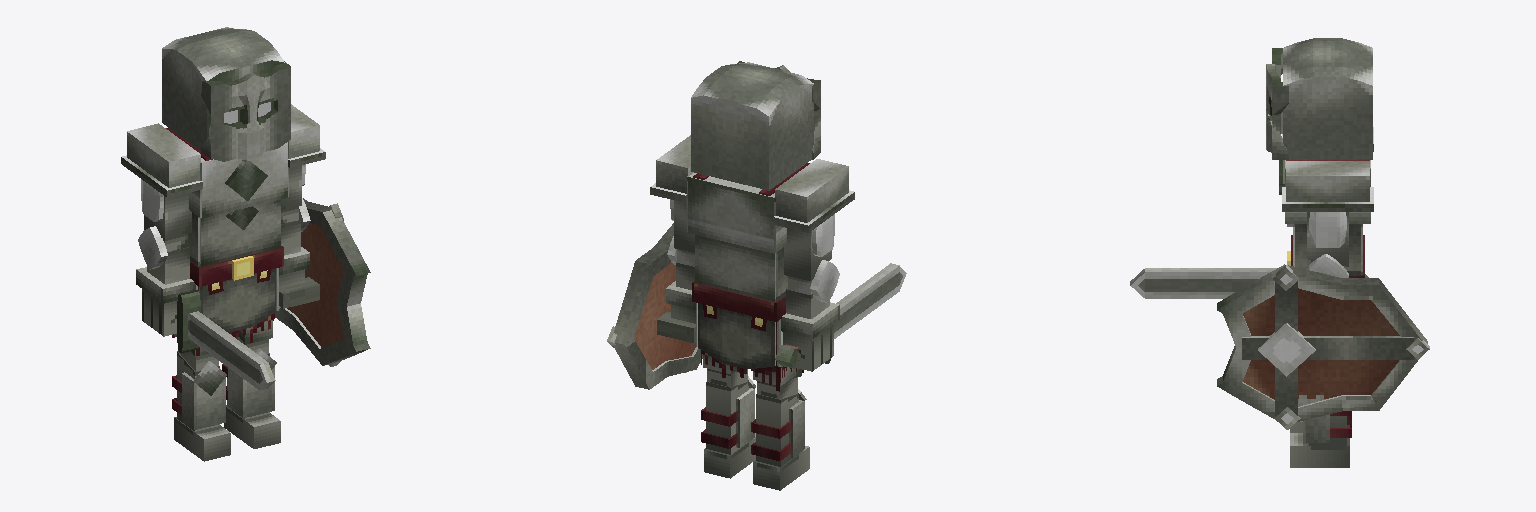
3 views of the same model, side by side, from view 1: azimuth 30°, elevation 25°; view 2: azimuth 150°, elevation 25°; view 3: azimuth 270°, elevation 25° (orthographic).
Parts seen in each view (by area): view 1: cuboid, Helmet_Base, Helmet_Front, Right_Shoulder_Equipment, Lower_Torso_Equipment, Upper_Torso_Equipment, Front_Leg_Plate_Equipment, Right_Shin_Guard_Equipment, Blade_Equipment, Belt_Equipment, Left_Shine_Plate_Equipment, Left_Shoulder_Equipment (+13 smaller); view 2: Helmet_Base, cuboid, Upper_Torso_Equipment, Lower_Torso_Equipment, Right_Shoulder_Equipment, Back_Leg_Plate_Equipment, Blade_Equipment, Belt_Equipment, Left_Shoulder_Equipment, Right_Lower_Leg, Left_Lower_Leg, Right_Upper_Arm_selection (+14 smaller); view 3: cuboid, Helmet_Base, Left_Shoulder_Equipment, Blade_Equipment, Helmet_Front, Left_Foot, Lower_Torso_Equipment, Left_Upper_Plate_Equipment, Left_Upper_Arm, Left_Shine_Plate_Equipment, Upper_Torso_Equipment, Left_Lower_Plate_Equipment.
Part boxes in pixels (left/top/right/bottom): cuboid: left=275, top=198, right=370, bottom=366; Helmet_Base: left=162, top=27, right=284, bottom=150; Helmet_Front: left=201, top=61, right=290, bottom=161; Right_Shoulder_Equipment: left=121, top=123, right=202, bottom=197; Lower_Torso_Equipment: left=188, top=199, right=280, bottom=266; Upper_Torso_Equipment: left=189, top=141, right=288, bottom=218; Front_Leg_Plate_Equipment: left=199, top=269, right=275, bottom=332; Right_Shin_Guard_Equipment: left=182, top=361, right=226, bottom=429; Blade_Equipment: left=190, top=311, right=268, bottom=390; Belt_Equipment: left=190, top=246, right=283, bottom=286; Left_Shine_Plate_Equipment: left=228, top=348, right=276, bottom=417; Left_Shoulder_Equipment: left=288, top=104, right=325, bottom=167; Helmet_Base: left=691, top=62, right=813, bottom=190; cuboid: left=607, top=223, right=702, bottom=389; Upper_Torso_Equipment: left=687, top=172, right=786, bottom=253; Lower_Torso_Equipment: left=695, top=235, right=787, bottom=301; Right_Shoulder_Equipment: left=773, top=159, right=854, bottom=232; Back_Leg_Plate_Equipment: left=698, top=303, right=775, bottom=368; Blade_Equipment: left=834, top=263, right=899, bottom=338; Belt_Equipment: left=692, top=281, right=785, bottom=321; Left_Shoulder_Equipment: left=650, top=135, right=692, bottom=202; Right_Lower_Leg: left=756, top=394, right=798, bottom=466; Left_Lower_Leg: left=706, top=382, right=748, bottom=454; Right_Upper_Arm_selection: left=784, top=228, right=831, bottom=280; cuboid: left=1217, top=264, right=1429, bottom=429; Helmet_Base: left=1281, top=38, right=1372, bottom=159; Left_Shoulder_Equipment: left=1282, top=161, right=1373, bottom=211; Blade_Equipment: left=1145, top=268, right=1276, bottom=298; Helmet_Front: left=1266, top=48, right=1288, bottom=159; Left_Foot: left=1290, top=433, right=1349, bottom=467; Lower_Torso_Equipment: left=1293, top=224, right=1362, bottom=275; Left_Upper_Plate_Equipment: left=1309, top=212, right=1346, bottom=247; Left_Upper_Arm: left=1307, top=212, right=1348, bottom=266; Left_Shine_Plate_Equipment: left=1305, top=414, right=1329, bottom=442; Upper_Torso_Equipment: left=1285, top=160, right=1370, bottom=223; Left_Lower_Plate_Equipment: left=1306, top=254, right=1348, bottom=277.
Size of the model in its own units: 1.54 by 3.32 by 2.27.
6 materials, 5 textured.